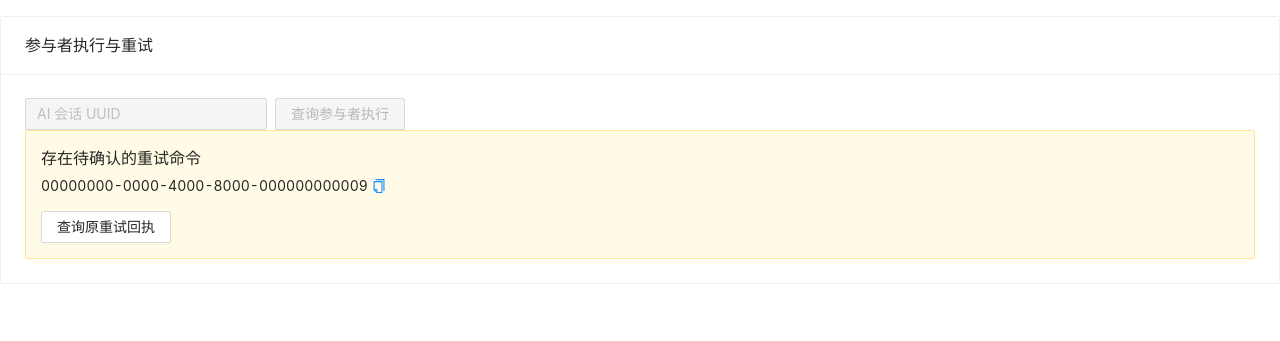
keeps publisher-held retry intent across refresh without a business decision
The width and height of the screenshot is (1280, 341).
Click the button "查询原重试回执" at (106, 227), box [41,211,171,243]
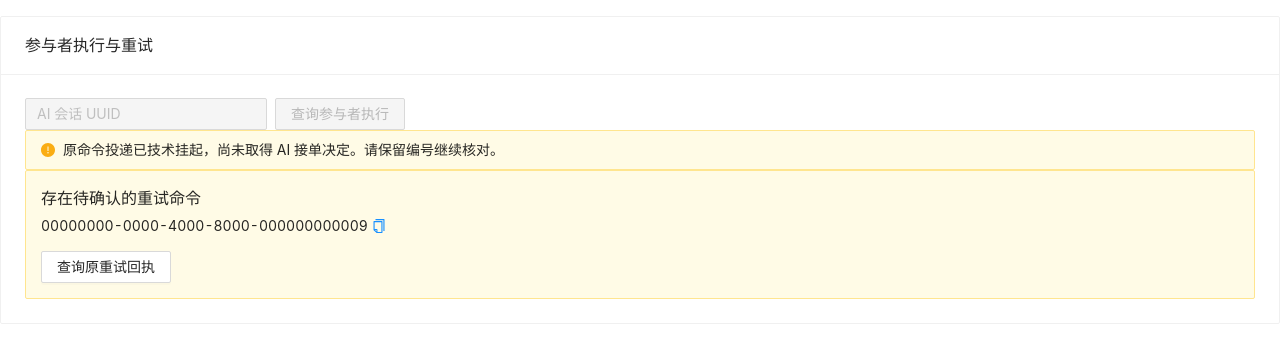
Result: the text "原命令投递已技术挂起，尚未取得 AI 接单决定。请保留编号继续核对。" is shown at [63,141,504,158]
